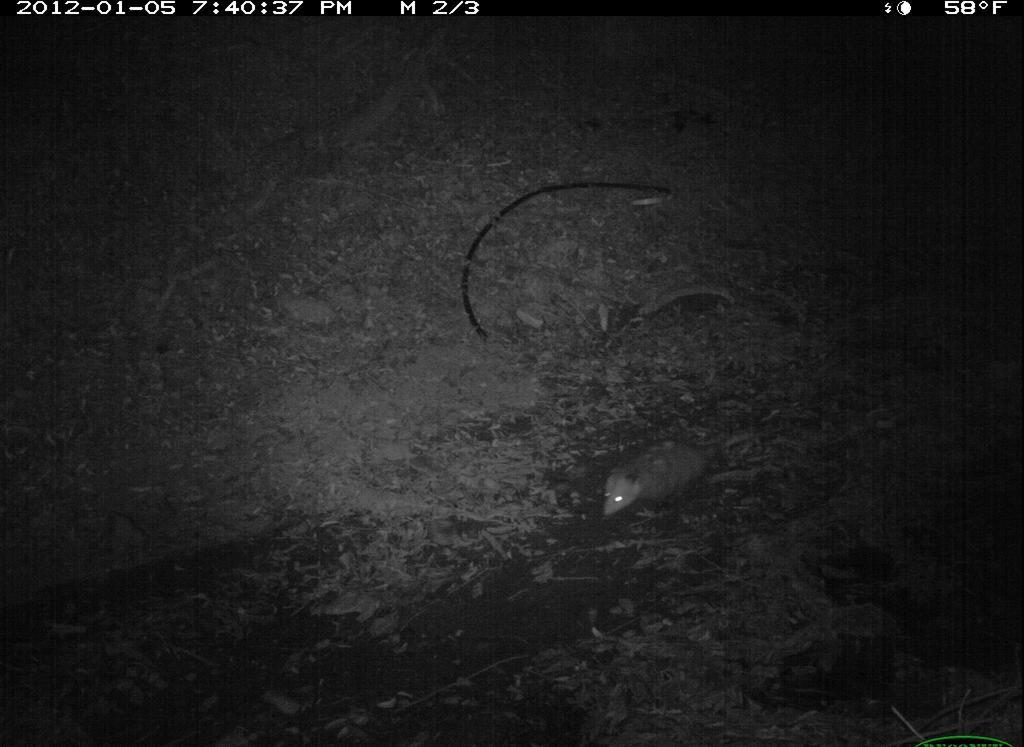opossum: (582, 413, 762, 538)
